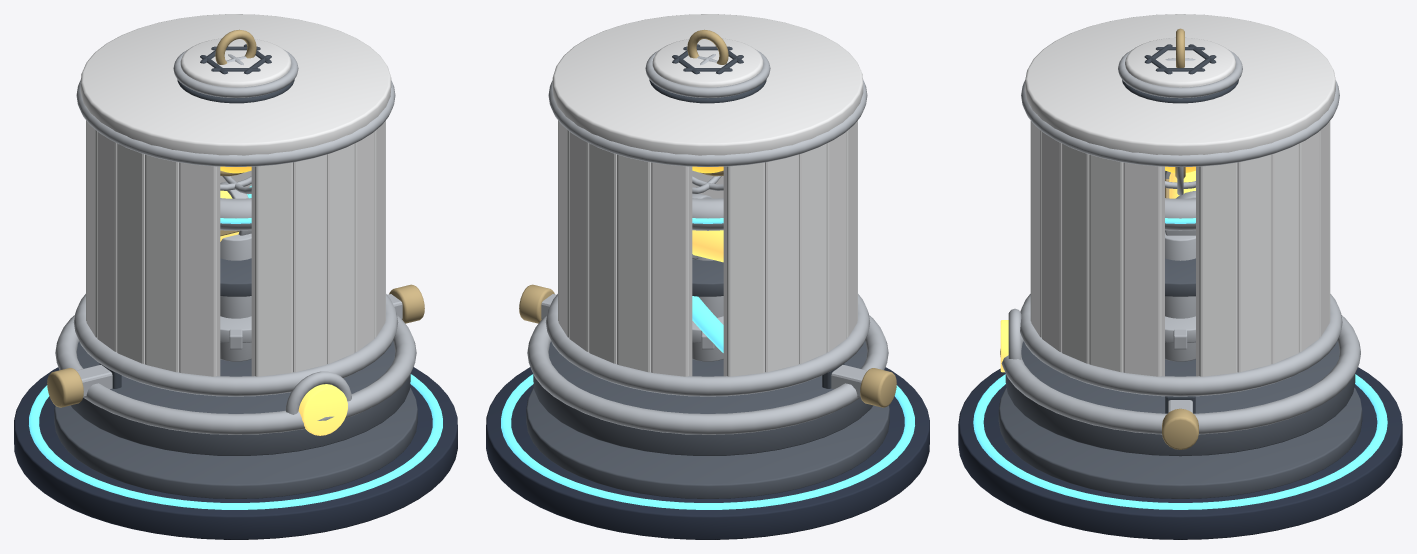
File: device_002.glb
3 views of the same model, side by side, from view 1: azimuth 30°, elevation 25°; view 2: azimuth 150°, elevation 25°; view 3: azimuth 270°, elevation 25° (orthographic).
Visible parts, largest first — view 1: OuterShell, Body, Pedestal, PedestalTop, TopVent, PedestalGlow, ReleaseButton, SafetyLatchL, CollarRing, SafetyLatchR; view 2: OuterShell, Body, Pedestal, PedestalTop, TopVent, PedestalGlow, SafetyLatchL, CollarRing, SafetyLatchR, CoolantPod; view 3: OuterShell, Body, Pedestal, PedestalTop, TopVent, PedestalGlow, SafetyLatchR, CollarRing, ReleaseButton, CoolantPod.
Part boxes in pixels (bbox=[...]): OuterShell: bbox=[73, 14, 398, 396]; Body: bbox=[55, 54, 416, 455]; Pedestal: bbox=[14, 367, 457, 539]; PedestalTop: bbox=[54, 388, 417, 498]; TopVent: bbox=[173, 29, 298, 97]; PedestalGlow: bbox=[29, 374, 442, 509]; ReleaseButton: bbox=[285, 371, 351, 435]; SafetyLatchL: bbox=[47, 363, 121, 407]; CollarRing: bbox=[220, 198, 251, 230]; SafetyLatchR: bbox=[387, 284, 424, 323]; OuterShell: bbox=[545, 14, 870, 396]; Body: bbox=[527, 54, 888, 455]; Pedestal: bbox=[486, 367, 929, 539]; PedestalTop: bbox=[526, 388, 889, 498]; TopVent: bbox=[645, 29, 770, 97]; PedestalGlow: bbox=[501, 374, 914, 509]; SafetyLatchL: bbox=[822, 363, 896, 407]; CollarRing: bbox=[692, 198, 723, 230]; SafetyLatchR: bbox=[519, 284, 556, 323]; CoolantPod: bbox=[692, 193, 723, 262]; OuterShell: bbox=[1020, 14, 1342, 396]; Body: bbox=[1000, 58, 1360, 456]; Pedestal: bbox=[958, 367, 1402, 539]; PedestalTop: bbox=[998, 387, 1362, 498]; TopVent: bbox=[1118, 28, 1242, 98]; PedestalGlow: bbox=[973, 374, 1387, 509]; SafetyLatchR: bbox=[1162, 396, 1198, 449]; CollarRing: bbox=[1165, 198, 1195, 230]; ReleaseButton: bbox=[1000, 308, 1021, 372]; CoolantPod: bbox=[1165, 170, 1195, 235].
Bounding box in the file's own units: 1.32 × 1.37 × 1.32.
